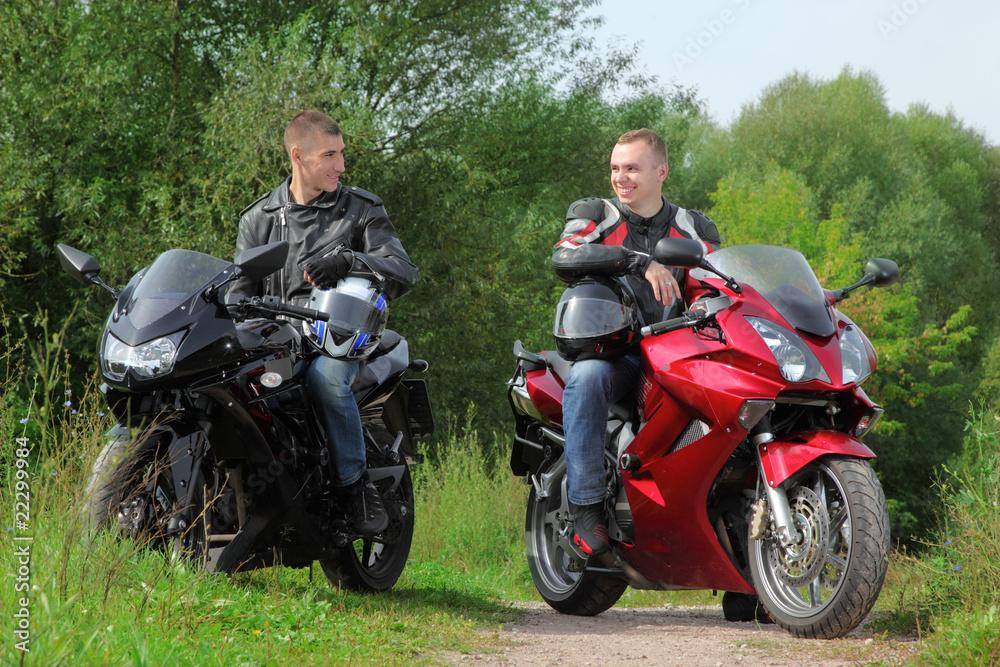helmet: (552, 270, 646, 363), (301, 269, 390, 363)
nohelmet: (283, 109, 346, 194), (609, 127, 670, 208)
